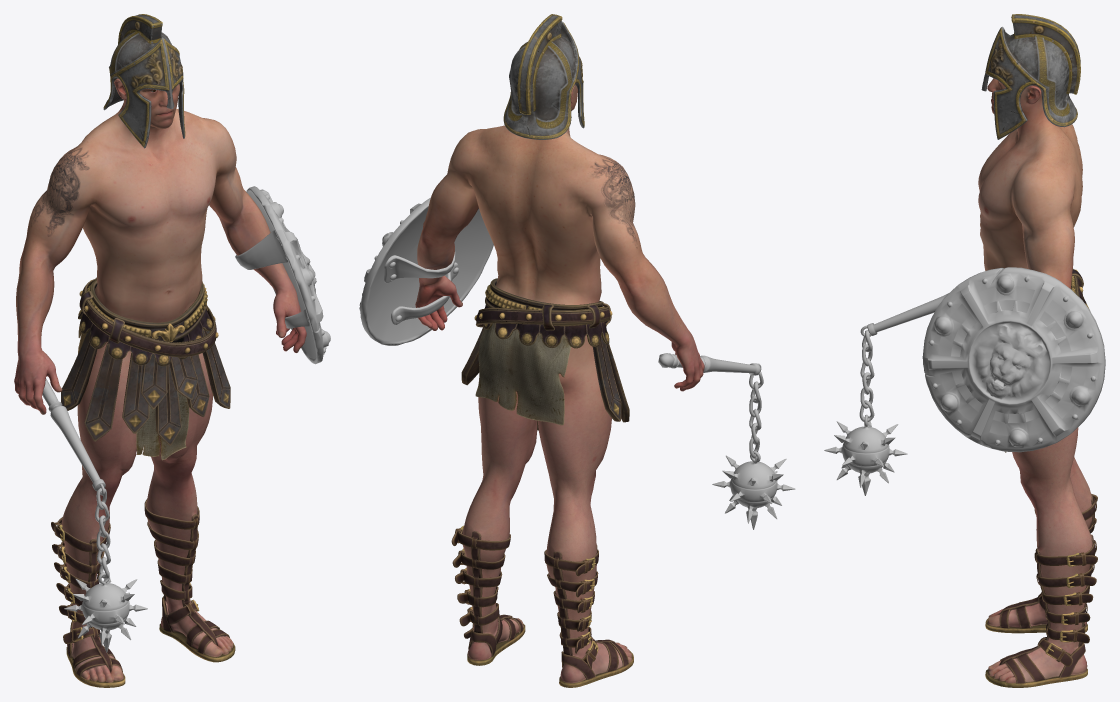
The model's file is gladiador.glb.
3 renders of one model, left to right at view 1: azimuth 30°, elevation 25°; view 2: azimuth 150°, elevation 25°; view 3: azimuth 270°, elevation 25°, orthographic.
Parts seen in each view (by area): view 1: Gladiator, Gladiator_weapon; view 2: Gladiator, Gladiator_weapon; view 3: Gladiator, Gladiator_weapon.
Part boxes in pixels (x1,y1,x2,y2): Gladiator: [14, 14, 306, 687]; Gladiator_weapon: [42, 186, 330, 652]; Gladiator: [415, 14, 704, 687]; Gladiator_weapon: [359, 197, 795, 529]; Gladiator: [978, 14, 1097, 687]; Gladiator_weapon: [824, 267, 1105, 495].
Size of the model in its own units: 1.07 by 2.03 by 0.8152.
2 materials, 1 textured.
